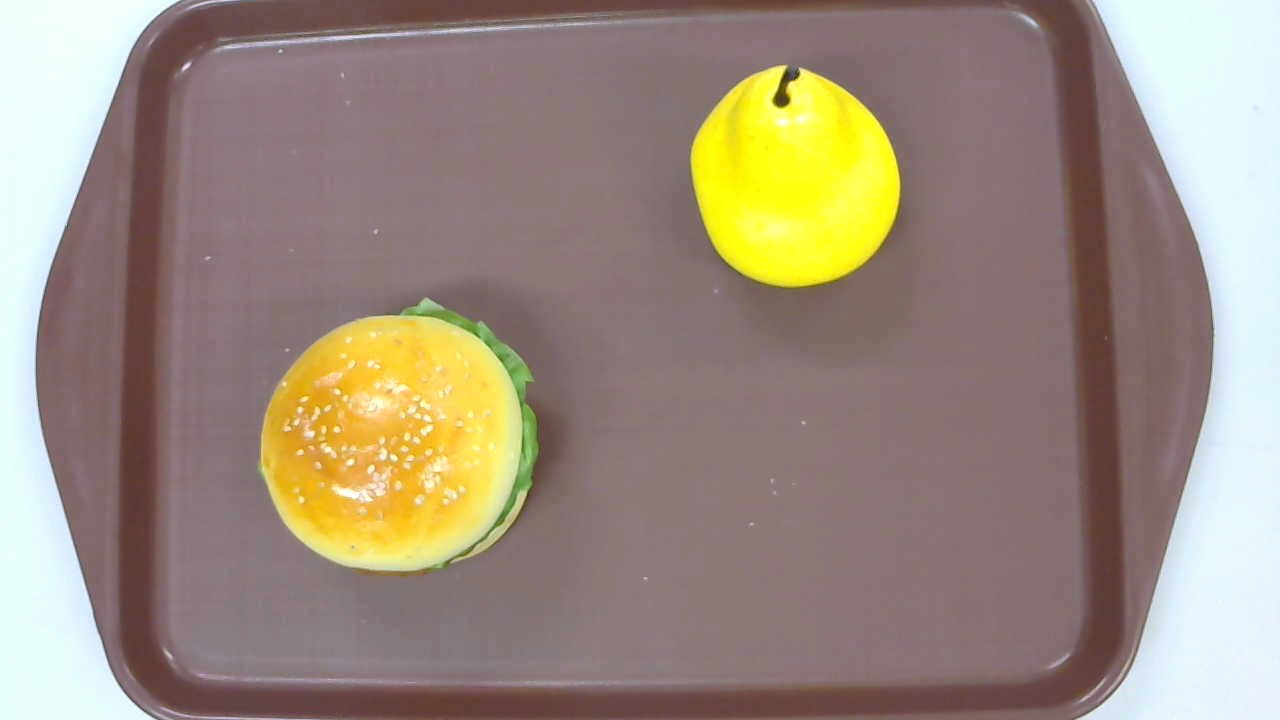hamburger: (258, 295, 539, 575)
yellow pear: (690, 64, 901, 289)
